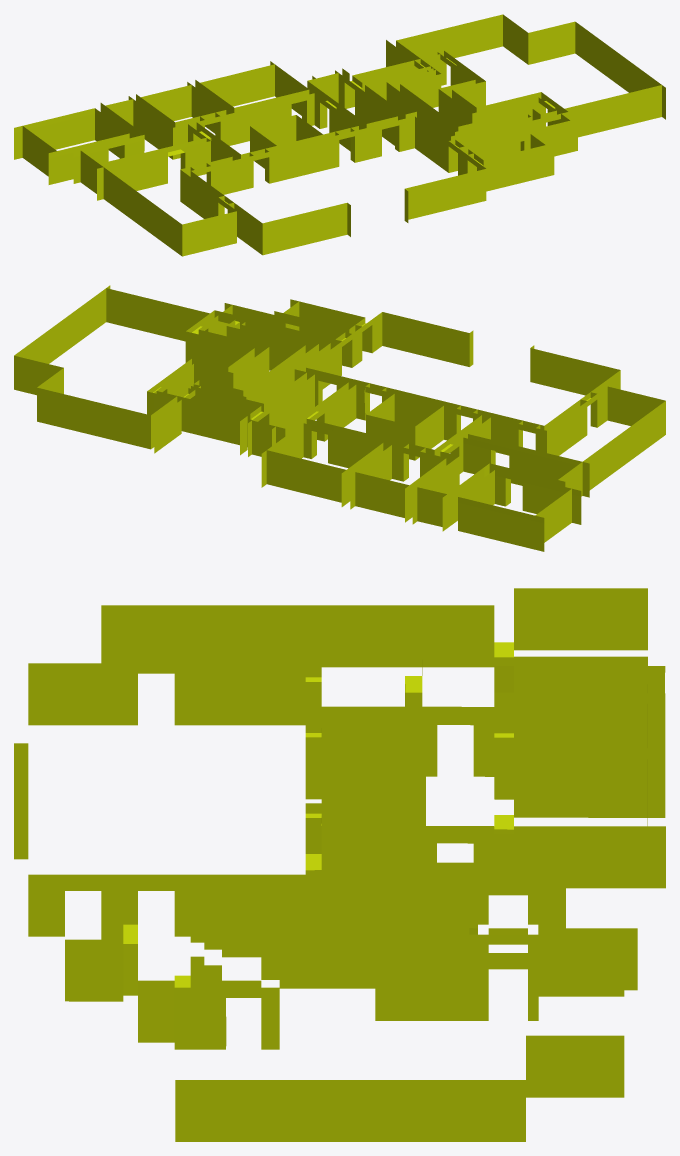
The model's file is pared.fbx.
The picture shows the model from 3 angles, top to bottom: view 1: azimuth 30°, elevation 25°; view 2: azimuth 150°, elevation 25°; view 3: azimuth 270°, elevation 25°; orthographic projection. The views are drawn at different scales.
Visible parts, largest first — view 1: ESCENARIO.001; view 2: ESCENARIO.001; view 3: ESCENARIO.001.
Part boxes in pixels (x1,y1,x2,y2): ESCENARIO.001: (14, 14, 665, 256); ESCENARIO.001: (14, 285, 665, 551); ESCENARIO.001: (14, 588, 665, 1141).
Size of the model in its own units: 6922 by 406 by 3813.
